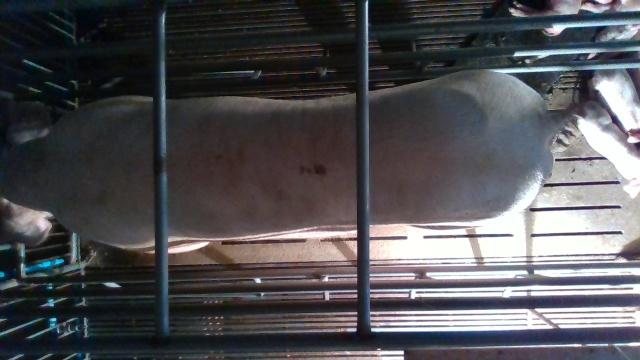piglet: (592, 68, 640, 145)
sow-stand-feed: (2, 70, 584, 244)
